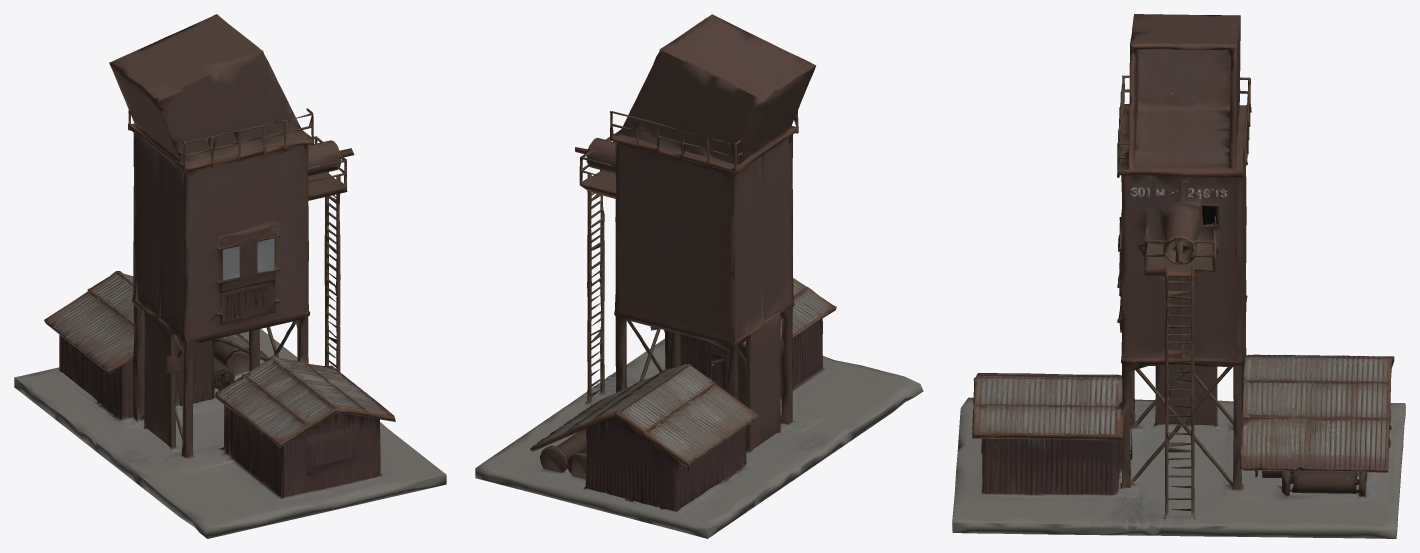
File: tripo-crusher.glb
The picture shows the model from 3 angles, left to right: view 1: azimuth 30°, elevation 25°; view 2: azimuth 150°, elevation 25°; view 3: azimuth 270°, elevation 25°; orthographic projection. The views are drawn at different scales.
Visible parts, largest first — view 1: tripo_node_24badd08-2ce5-4358-882a-833d28429f7f; view 2: tripo_node_24badd08-2ce5-4358-882a-833d28429f7f; view 3: tripo_node_24badd08-2ce5-4358-882a-833d28429f7f.
Part boxes in pixels (bbox=[...]): tripo_node_24badd08-2ce5-4358-882a-833d28429f7f: bbox=[14, 14, 446, 538]; tripo_node_24badd08-2ce5-4358-882a-833d28429f7f: bbox=[475, 14, 923, 538]; tripo_node_24badd08-2ce5-4358-882a-833d28429f7f: bbox=[952, 14, 1405, 538].
Bounding box in the file's own units: 0.6448 × 1 × 0.9438.
1 material, 1 textured.
